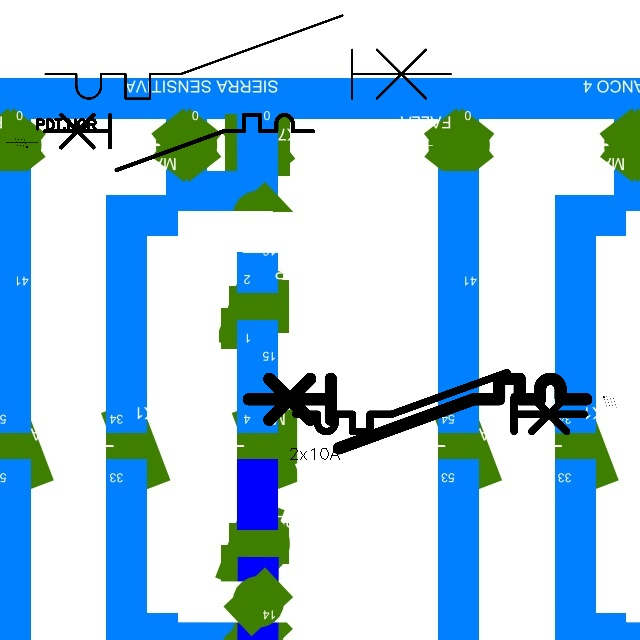interruptor_termomagnetico: (35, 5, 461, 109), (240, 370, 595, 457), (288, 365, 592, 439), (37, 108, 319, 177)
